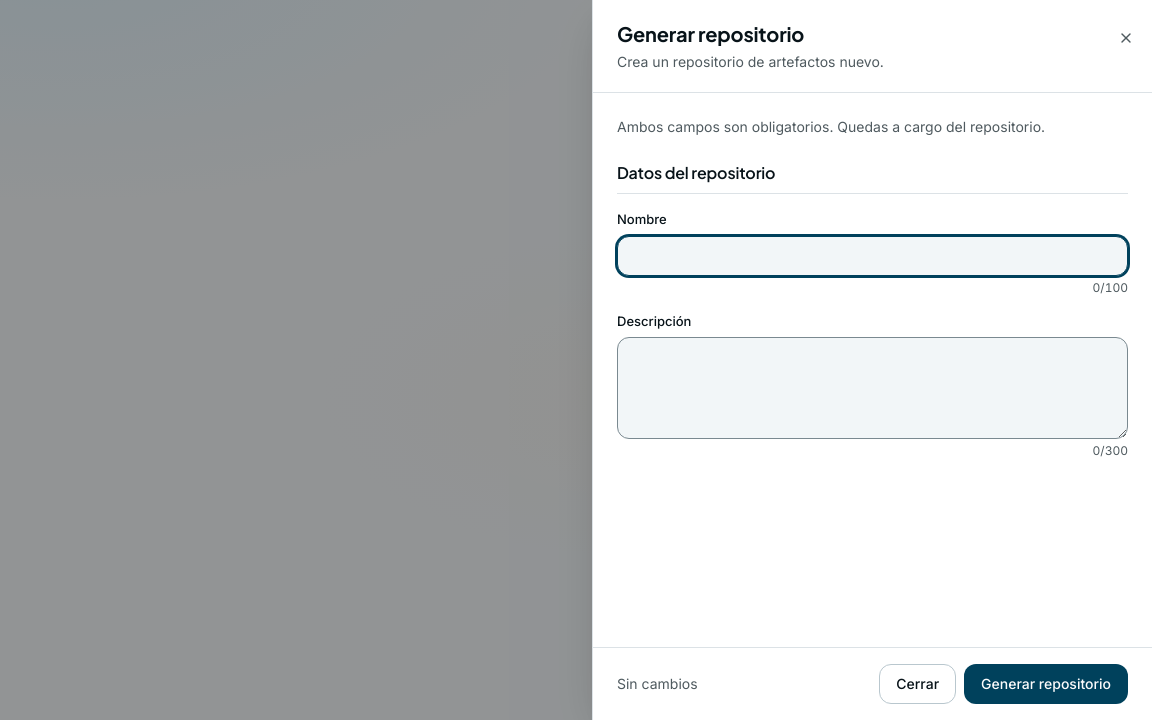
Scenario: GenerarRepositorioPanel › ante un nombre duplicado avisa con toast, marca el campo y deja el panel abierto
In the field labelled "Nombre": {"x": 872, "y": 256} left=617, top=236, right=1128, bottom=276, type "  Repositorio Alfa  "
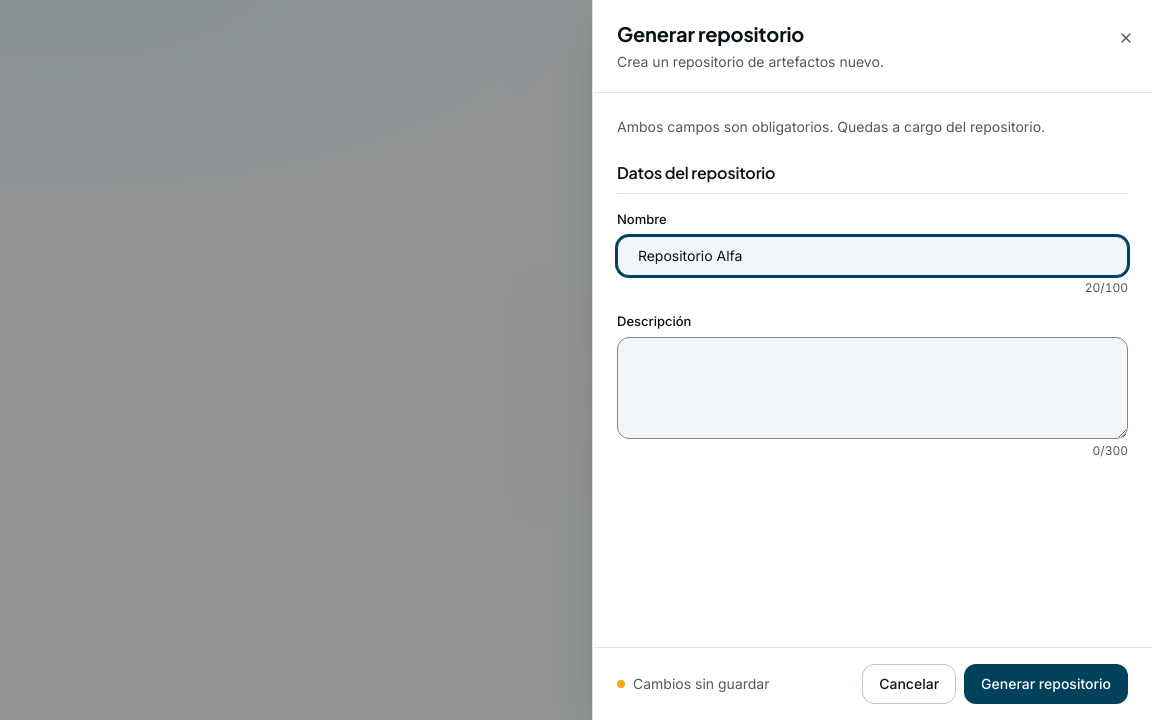
In the text box labelled "Descripción": {"x": 872, "y": 388} left=617, top=337, right=1128, bottom=439, type "Artefactos del semillero"
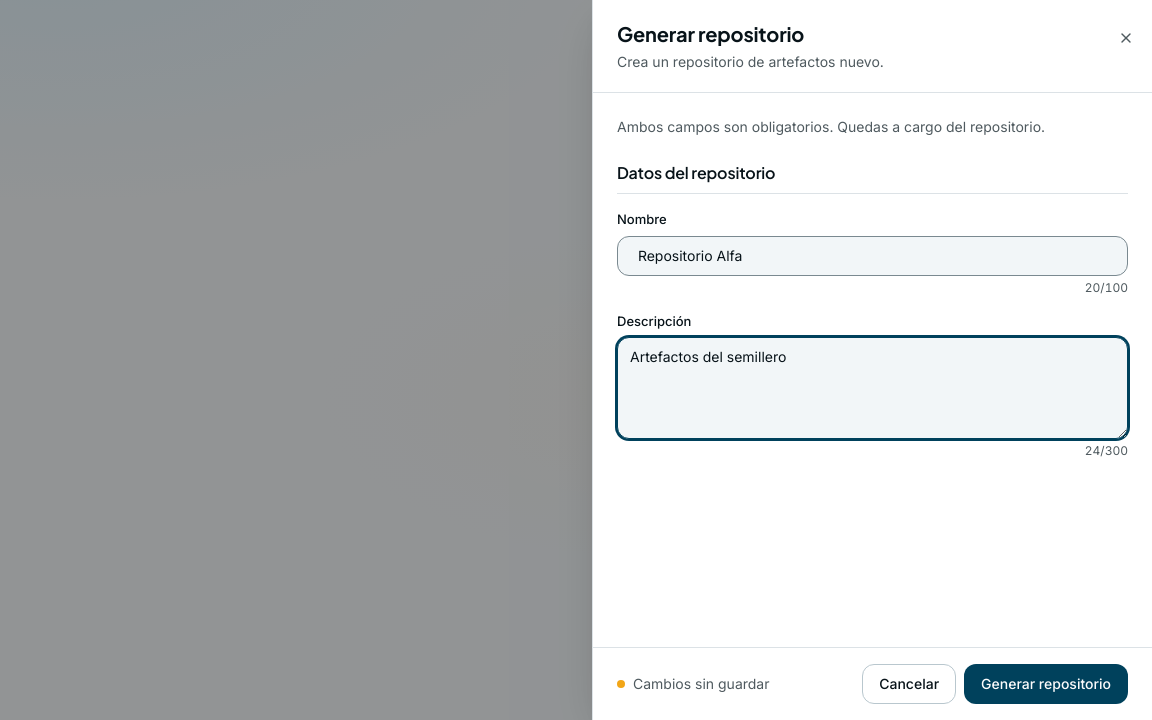
Click the button "Generar repositorio": {"x": 1046, "y": 684} left=964, top=664, right=1128, bottom=704
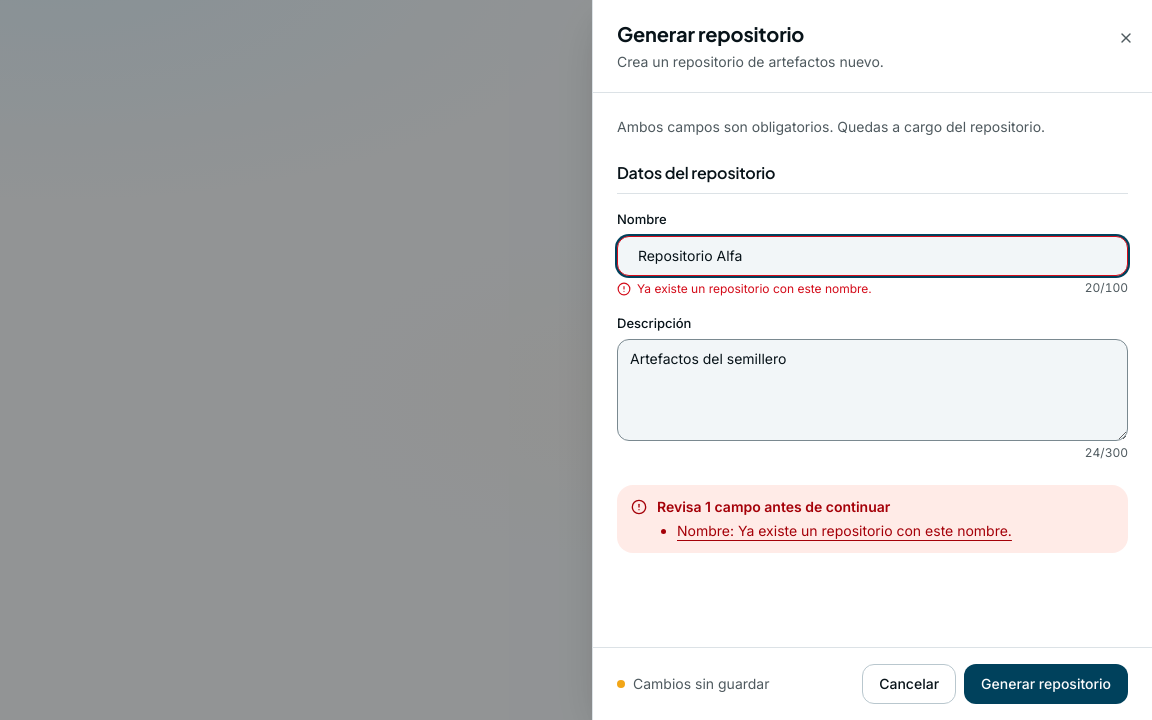
Expected: the text "Ya existe un repositorio con este nombre." is shown, left=617, top=280, right=872, bottom=298
